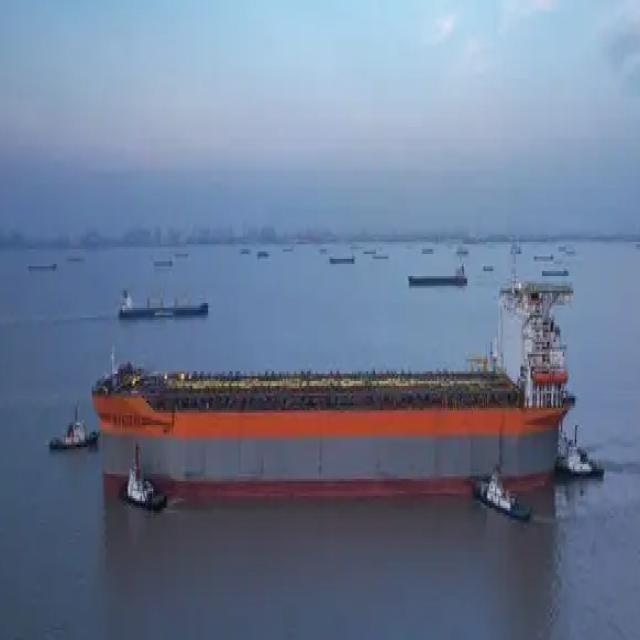cargoship: (94, 268, 567, 515), (109, 278, 213, 328), (406, 268, 472, 290)
fishing boat: (464, 443, 531, 523), (554, 410, 603, 480), (46, 405, 99, 465)
houseboat: (108, 430, 168, 504)
